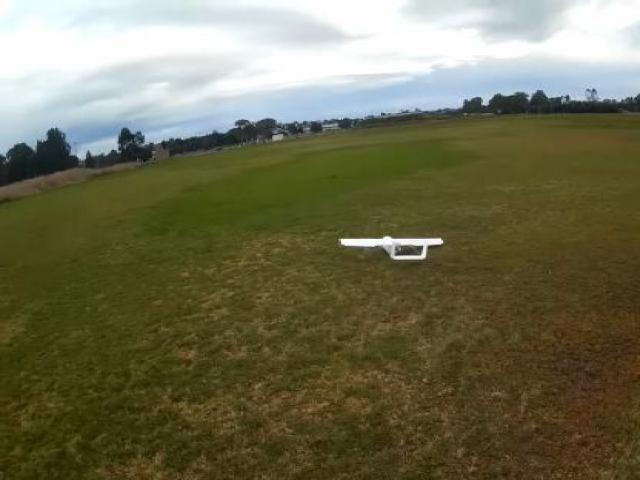uav: (333, 227, 450, 266)
